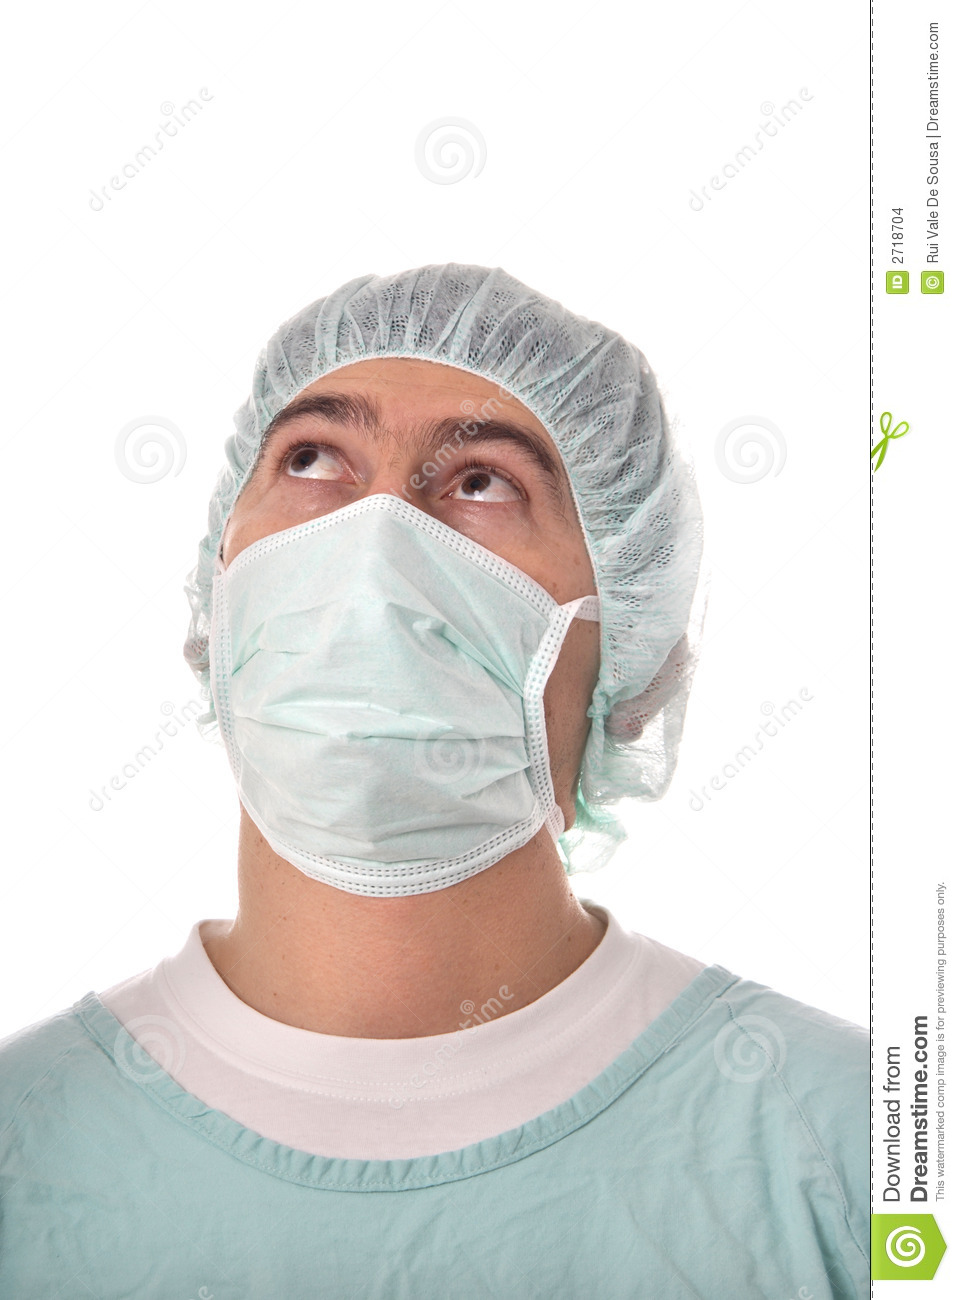mask: (184, 505, 582, 899)
